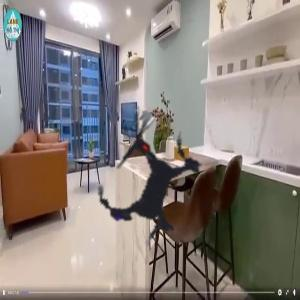drone: (50, 83, 248, 281)
